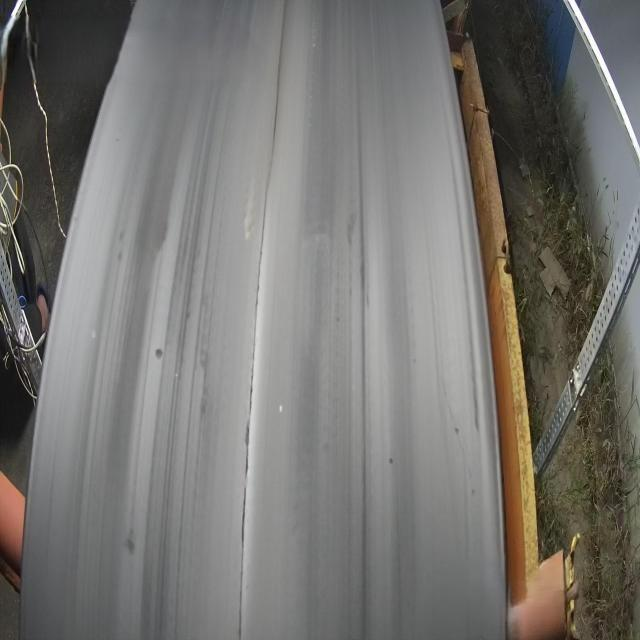Tear: (233, 0, 295, 640)
